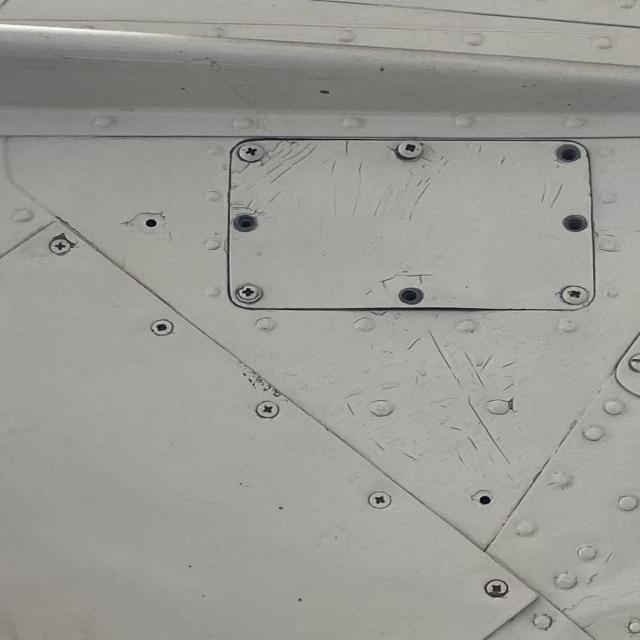Missing-head: (229, 211, 258, 233), (554, 142, 583, 163), (562, 213, 590, 232), (397, 287, 423, 305), (140, 215, 161, 230), (474, 493, 492, 506)
Paint-off: (545, 582, 640, 640)
Scratch: (331, 312, 578, 500), (229, 140, 440, 227)
